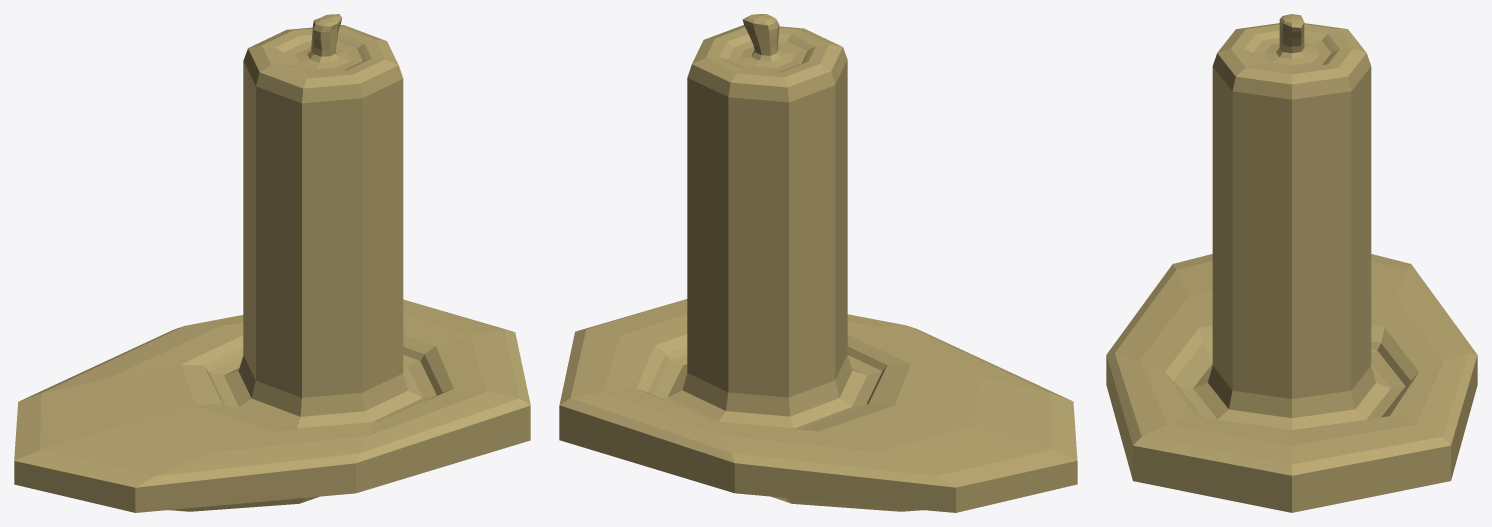
Rendered from Candle.fbx.
3 renders of one model, left to right at view 1: azimuth 30°, elevation 25°; view 2: azimuth 150°, elevation 25°; view 3: azimuth 270°, elevation 25°, orthographic.
Parts seen in each view (by area): view 1: Cube.007; view 2: Cube.007; view 3: Cube.007.
Part boxes in pixels (x1,y1,x2,y2): Cube.007: (14, 14, 530, 512); Cube.007: (559, 14, 1077, 512); Cube.007: (1106, 14, 1477, 512).
Bounding box in the file's own units: 143 × 123 × 90.15.
